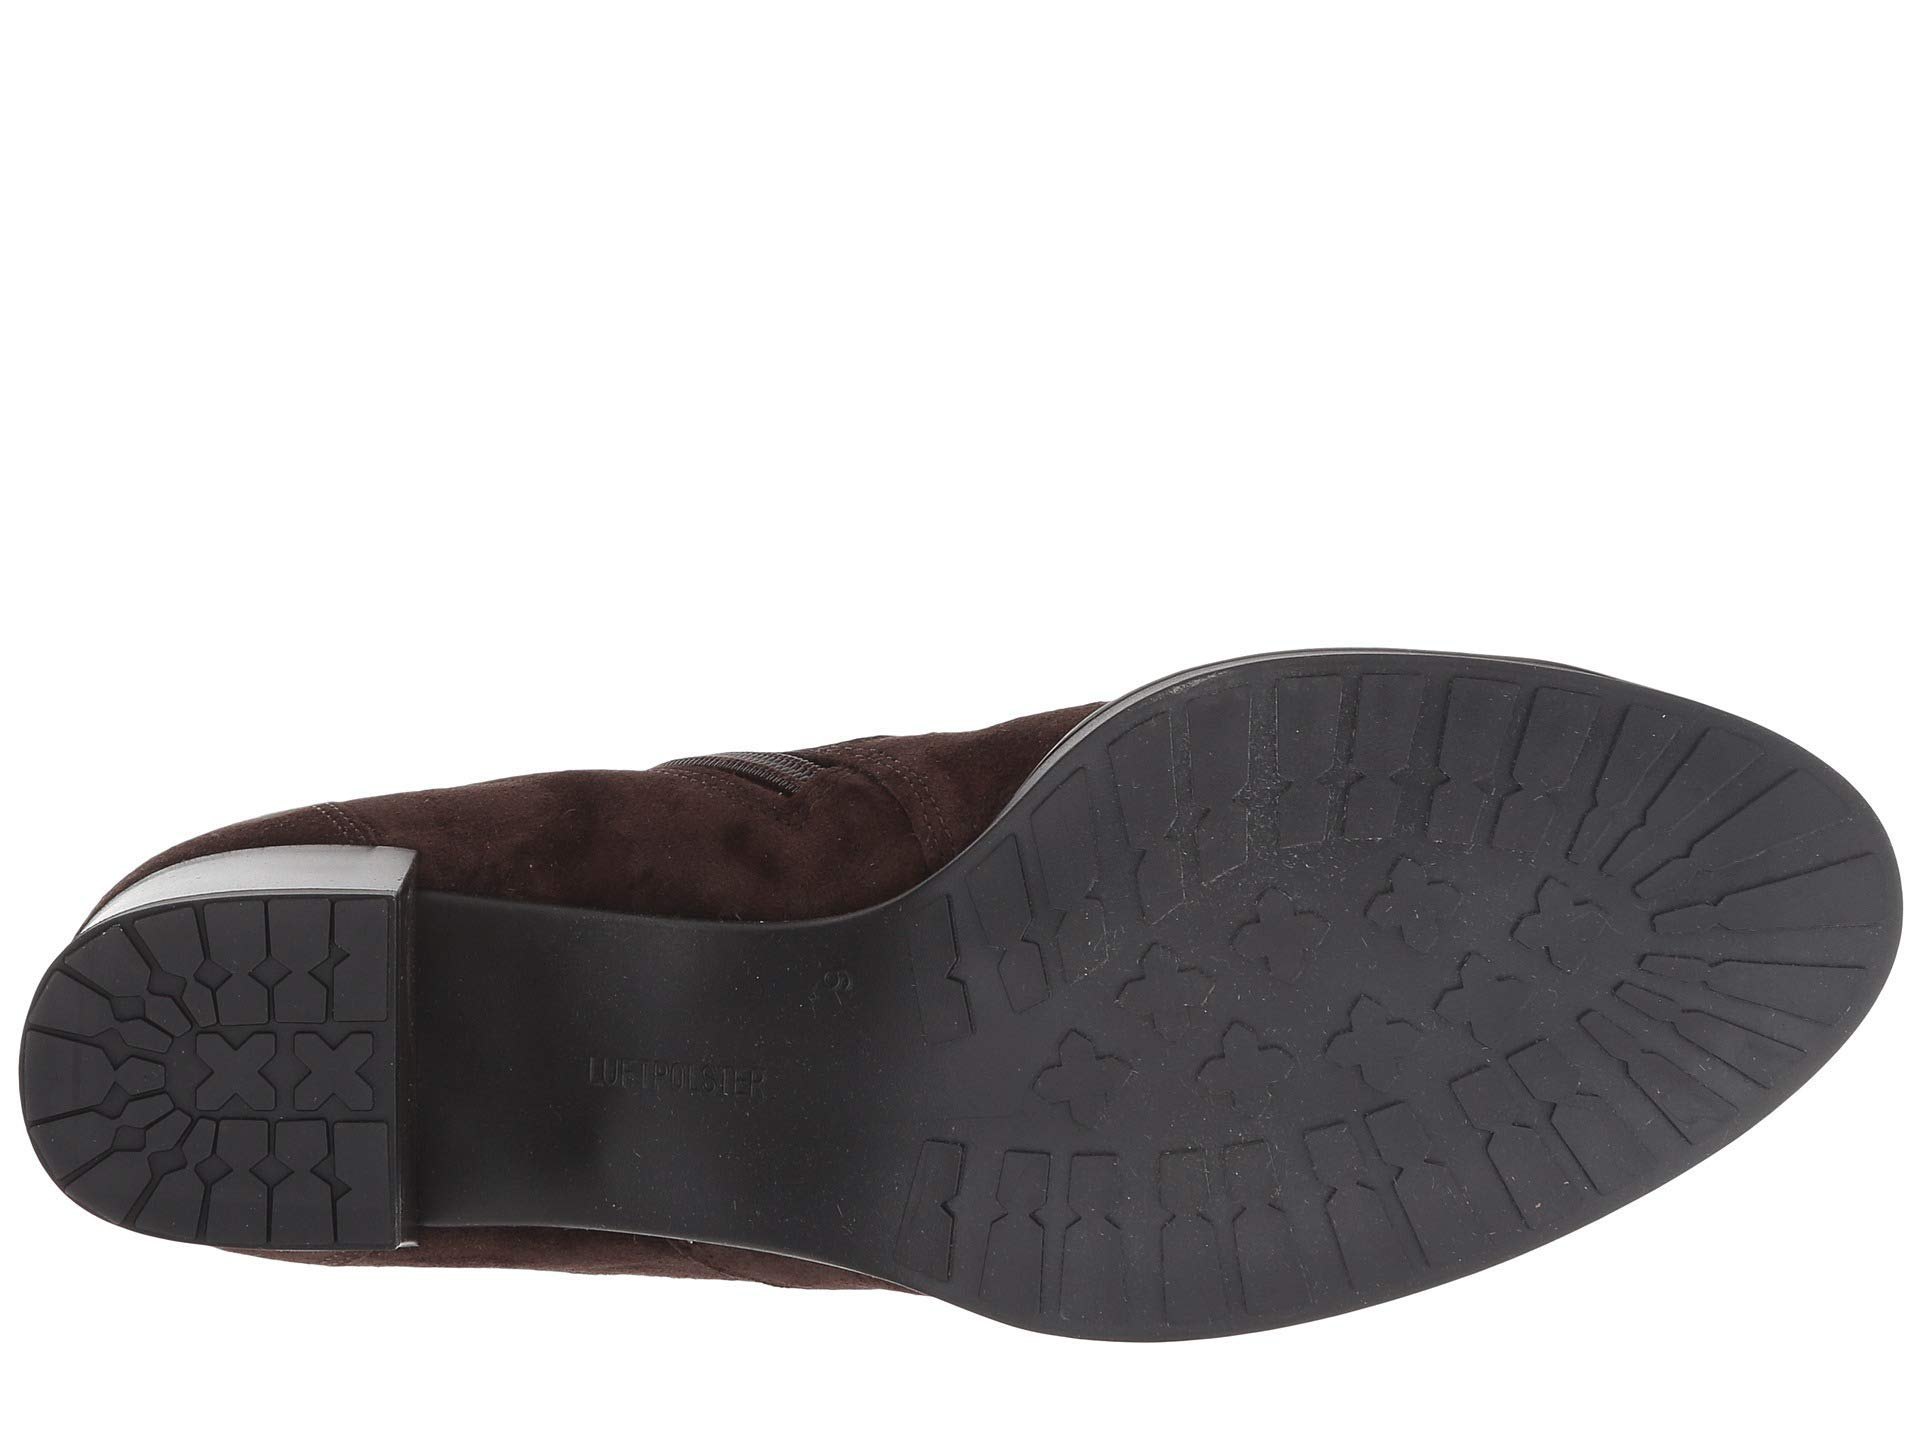other: (1212, 667, 1581, 838)
star: (1206, 886, 1507, 1069), (186, 1016, 387, 1110)
text: (534, 998, 875, 1141)
